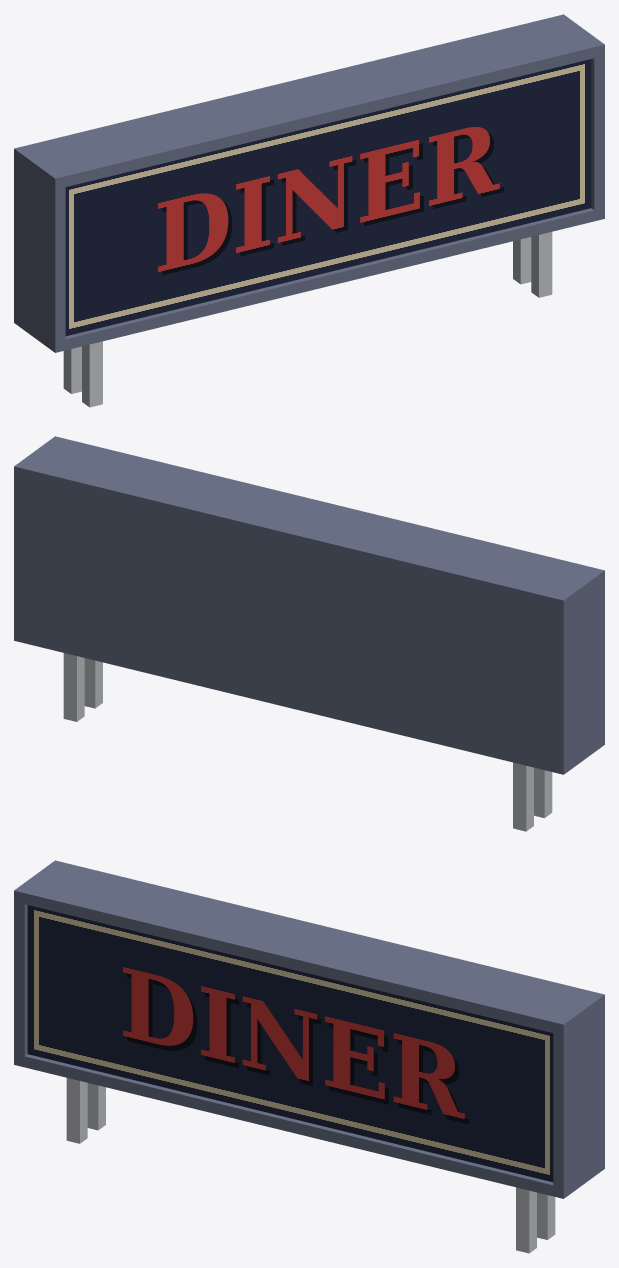
File: roof_sign.glb
3 views of the same model, one above another, from view 1: azimuth 30°, elevation 25°; view 2: azimuth 150°, elevation 25°; view 3: azimuth 330°, elevation 25° (orthographic).
Parts seen in each view (by area): view 1: roof_sign_sign, roof_sign_sign_frame, roof_sign_steel_dark; view 2: roof_sign_sign_frame, roof_sign_steel_dark; view 3: roof_sign_sign, roof_sign_sign_frame, roof_sign_steel_dark.
Boxes of the visible parts, <box> form: roof_sign_sign: <box>65,59,591,336</box>; roof_sign_sign_frame: <box>14,14,604,352</box>; roof_sign_steel_dark: <box>63,232,552,407</box>; roof_sign_sign_frame: <box>14,436,604,774</box>; roof_sign_steel_dark: <box>63,653,552,831</box>; roof_sign_sign: <box>27,905,553,1182</box>; roof_sign_sign_frame: <box>14,860,604,1198</box>; roof_sign_steel_dark: <box>66,1078,555,1253</box>.
Size of the model in its own units: 4.16 by 1.78 by 0.54.
Materials: 3 (1 with a texture image).
